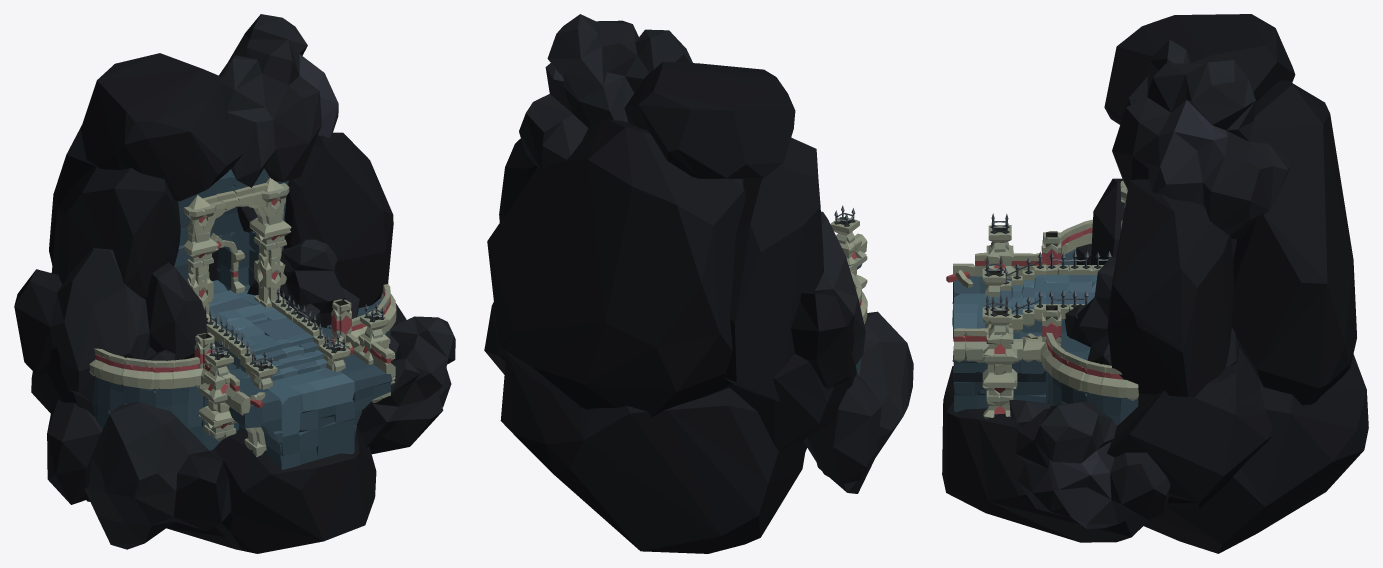
File: hallway_entrance.fbx
The picture shows the model from 3 angles, left to right: view 1: azimuth 30°, elevation 25°; view 2: azimuth 150°, elevation 25°; view 3: azimuth 270°, elevation 25°; orthographic projection. The views are drawn at different scales.
Parts seen in each view (by area): view 1: hallway_entrance; view 2: hallway_entrance; view 3: hallway_entrance.
Boxes of the visible parts, box(x1,y1,x2,y2) form: hallway_entrance: box(14, 14, 455, 553); hallway_entrance: box(484, 14, 913, 553); hallway_entrance: box(942, 14, 1368, 553).
Size of the model in its own units: 2011 by 2373 by 1853.
